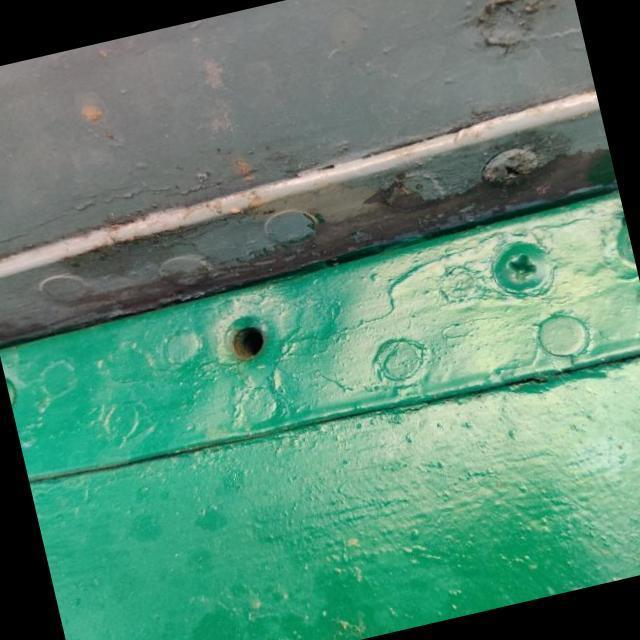Fastener Damage: (190, 290, 298, 398)
